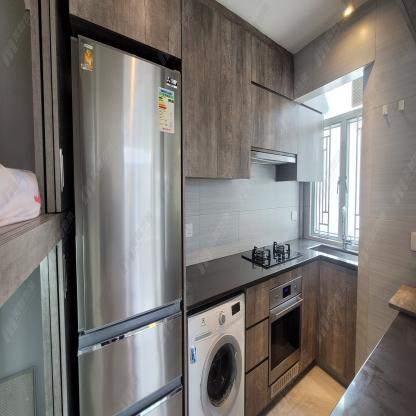Cupboard: (69, 0, 324, 181), (245, 265, 301, 416), (301, 258, 356, 382)
Fridge: (69, 33, 183, 416)
Oven: (269, 278, 300, 385)
Stove: (240, 239, 304, 271)
Washing Machine: (187, 292, 244, 416)
